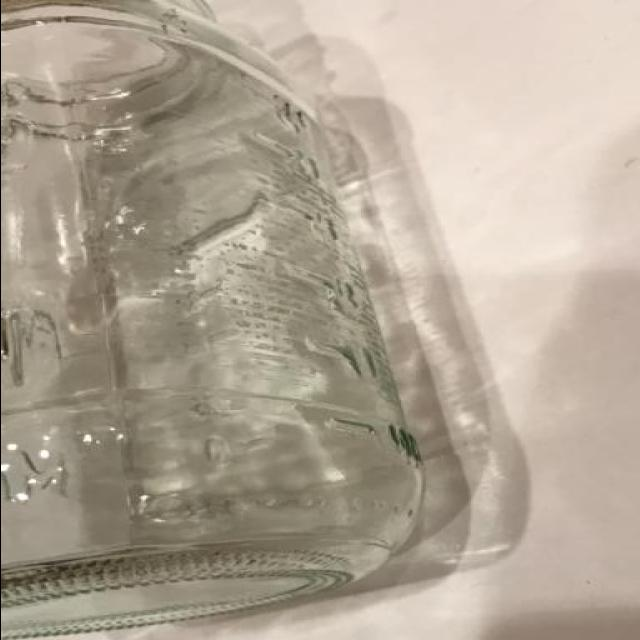Glass Bottle: (0, 1, 424, 635)
